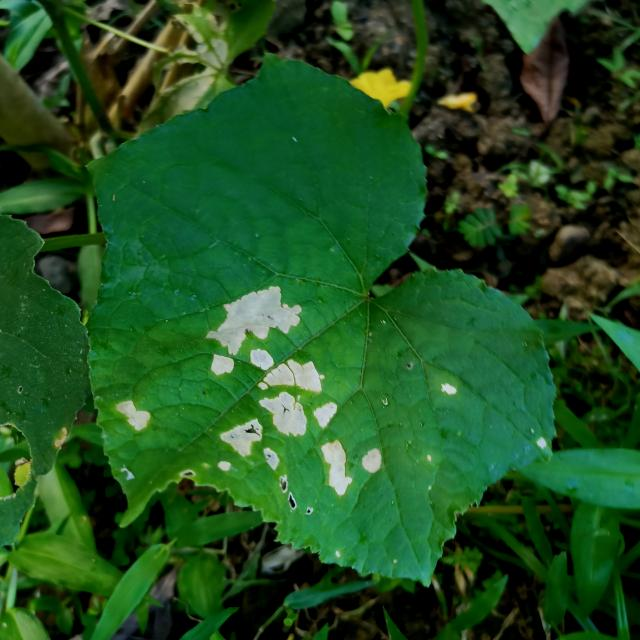disease_cucumber: (204, 283, 386, 500), (115, 392, 159, 444), (439, 379, 462, 402)
